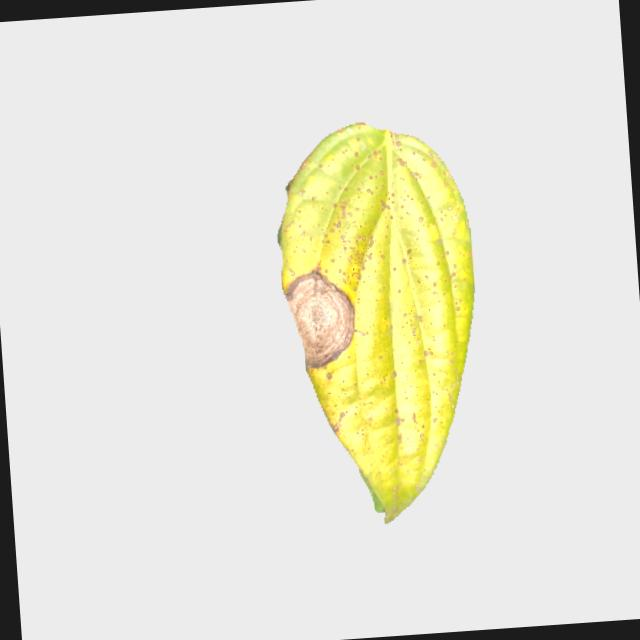leaf-blight: (270, 113, 498, 526)
